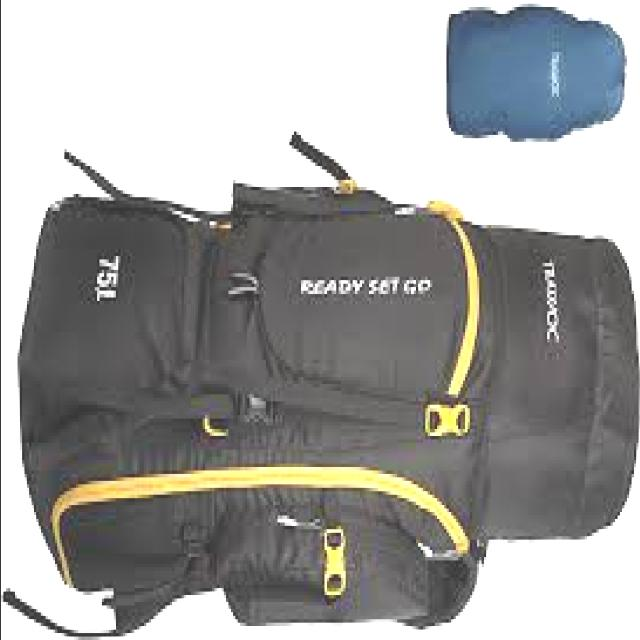backpack: (11, 133, 640, 638)
